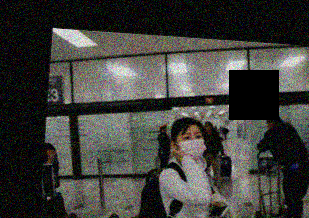with_mask: (176, 130, 206, 159)
